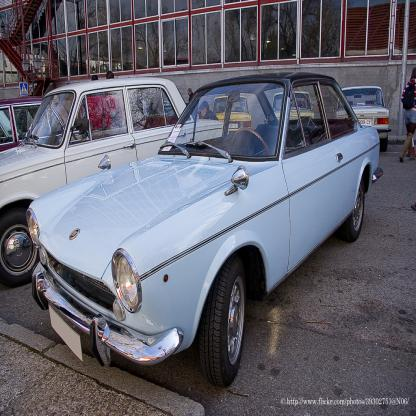Car: (0, 76, 392, 388)
